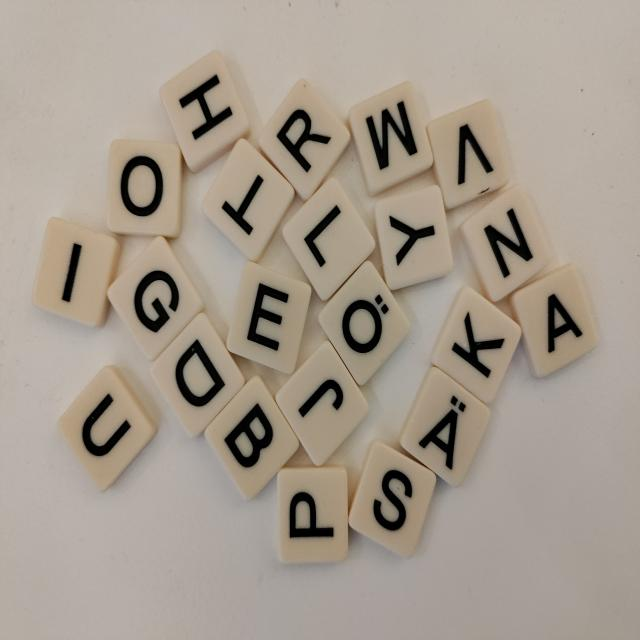a: (507, 261, 600, 382)
a_dot: (396, 363, 493, 491)
b: (201, 371, 302, 505)
d: (146, 310, 247, 442)
e: (224, 259, 312, 376)
g: (104, 232, 207, 364)
h: (157, 47, 253, 177)
i: (30, 214, 123, 330)
j: (273, 338, 372, 470)
k: (429, 284, 524, 408)
l: (279, 174, 378, 305)
m: (346, 80, 436, 198)
n: (457, 182, 553, 306)
o: (106, 139, 183, 239)
o_dot: (314, 257, 413, 388)
p: (276, 466, 349, 564)
r: (255, 76, 355, 205)
s: (345, 436, 438, 561)
t: (199, 135, 297, 266)
u: (54, 361, 160, 496)
v: (424, 99, 510, 211)
y: (373, 183, 455, 293)
